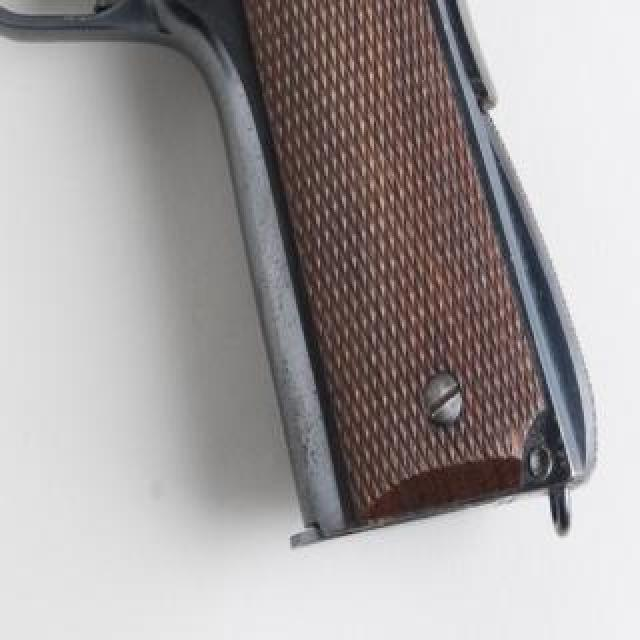Guns: (0, 0, 616, 578)
